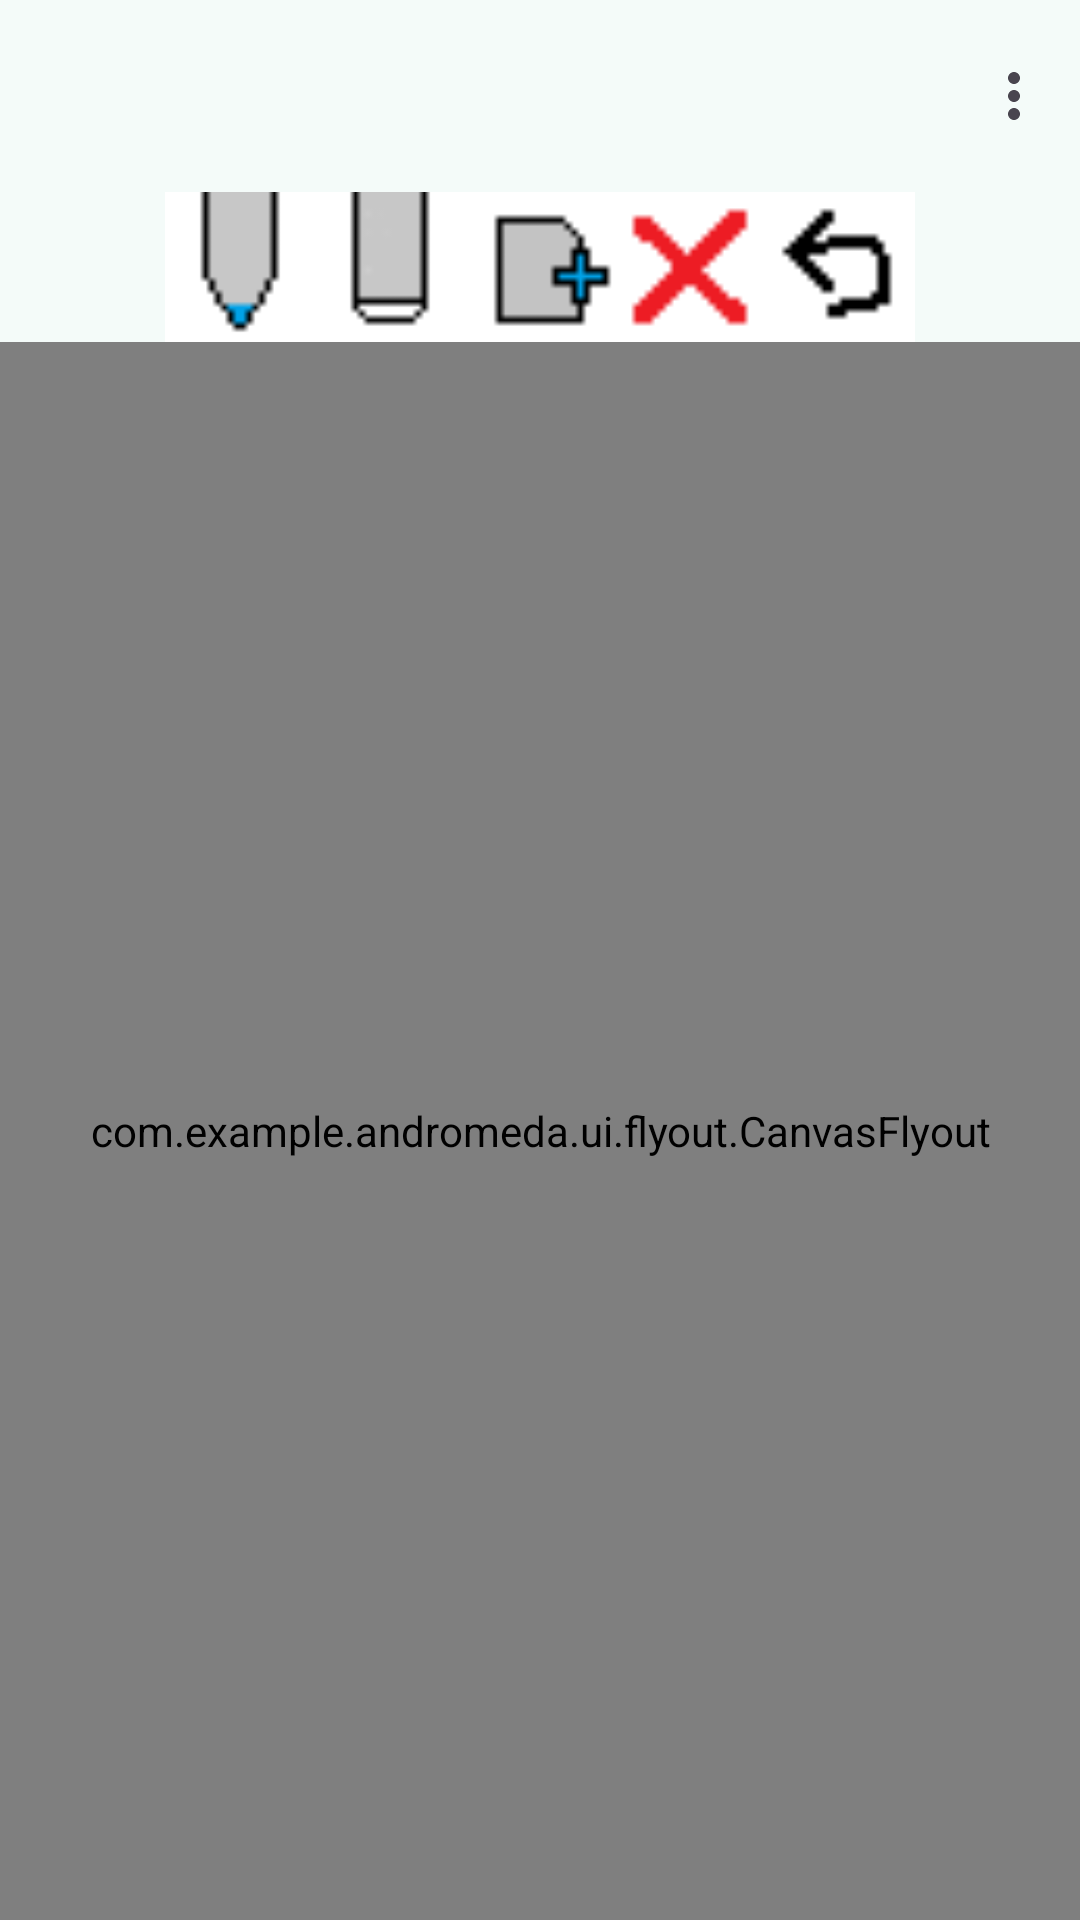

Icon bounding boxes for this 1080w x 1920h phone screenshot, format (x1, y1, x2, y2):
clean: (631, 208, 749, 326)
eraser: (350, 192, 430, 326)
insert: (494, 214, 611, 326)
pen: (200, 192, 280, 332)
undo: (765, 192, 915, 342)
